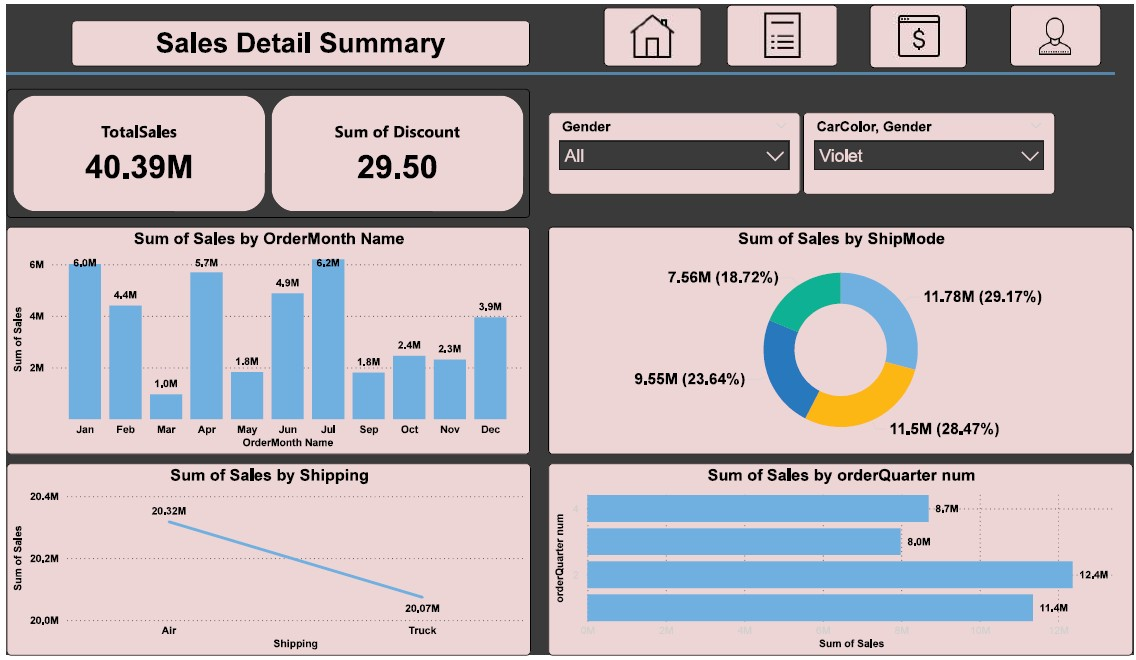

What the dashboard file says about the page in this screenshot:
{"tool":"powerbi","page":{"name":"Sales","canvas":[1300,750],"ordinal":2},"visuals":[{"type":"image","box":[688.8,2.8,113.4,67.8],"z":0},{"type":"image","box":[1157.7,0,105.1,70.5],"z":1000},{"type":"image","box":[995.9,0,112,73.3],"z":2000},{"type":"image","box":[831.3,0,127.3,70.5],"z":3000},{"type":"textbox","box":[74.7,18,529.8,52.6],"z":4000},{"type":"shape","box":[0,73.3,1279.4,12.4],"z":5000},{"type":"cardVisual","fields":{"Data":["DAX measure.TotalSales","Sum(youtube cars.Discount)"]},"box":[0,96.8,604.4,149.4],"z":6000},{"type":"columnChart","fields":{"Y":["Sum(youtube cars.Sales)"],"Category":["DateMaster.OrderMonth Name"]},"box":[0,255.9,604.4,262.8],"z":7000},{"type":"donutChart","fields":{"Category":["youtube cars.ShipMode"],"Y":["Sum(youtube cars.Sales)"]},"box":[625.3,256.5,674.3,262.2],"z":8000},{"type":"lineChart","fields":{"Category":["youtube cars.Shipping"],"Y":["Sum(youtube cars.Sales)"]},"box":[0,528.8,605.1,221.9],"z":9000},{"type":"barChart","fields":{"Category":["DateMaster.orderQuarter num"],"Y":["Sum(youtube cars.Sales)"]},"box":[625.3,528.8,674.3,221.9],"z":9001},{"type":"slicer","fields":{"Values":["youtube cars.Gender"]},"box":[625.3,123.9,291,95.1],"z":9002},{"type":"slicer","fields":{"Values":["youtube cars.CarColor","youtube cars.Gender"]},"box":[919.2,123.9,291,95.1],"z":9003}]}

Visuals, with their boxes in screenshot pixels (x1, y1, x2, y2), scaled from the page's 1300x750 canvas onto the 1136x660 screenshot:
image: bbox(602, 2, 701, 62)
image: bbox(1012, 0, 1103, 62)
image: bbox(870, 0, 968, 65)
image: bbox(726, 0, 838, 62)
textbox: bbox(65, 16, 528, 62)
shape: bbox(0, 65, 1118, 75)
cardVisual - DAX measure.TotalSales x Sum(youtube cars.Discount): bbox(0, 85, 528, 217)
columnChart - Sum(youtube cars.Sales) x DateMaster.OrderMonth Name: bbox(0, 225, 528, 456)
donutChart - youtube cars.ShipMode x Sum(youtube cars.Sales): bbox(546, 226, 1135, 456)
lineChart - youtube cars.Shipping x Sum(youtube cars.Sales): bbox(0, 465, 529, 659)
barChart - DateMaster.orderQuarter num x Sum(youtube cars.Sales): bbox(546, 465, 1135, 659)
slicer - youtube cars.Gender: bbox(546, 109, 801, 193)
slicer - youtube cars.CarColor x youtube cars.Gender: bbox(803, 109, 1058, 193)
